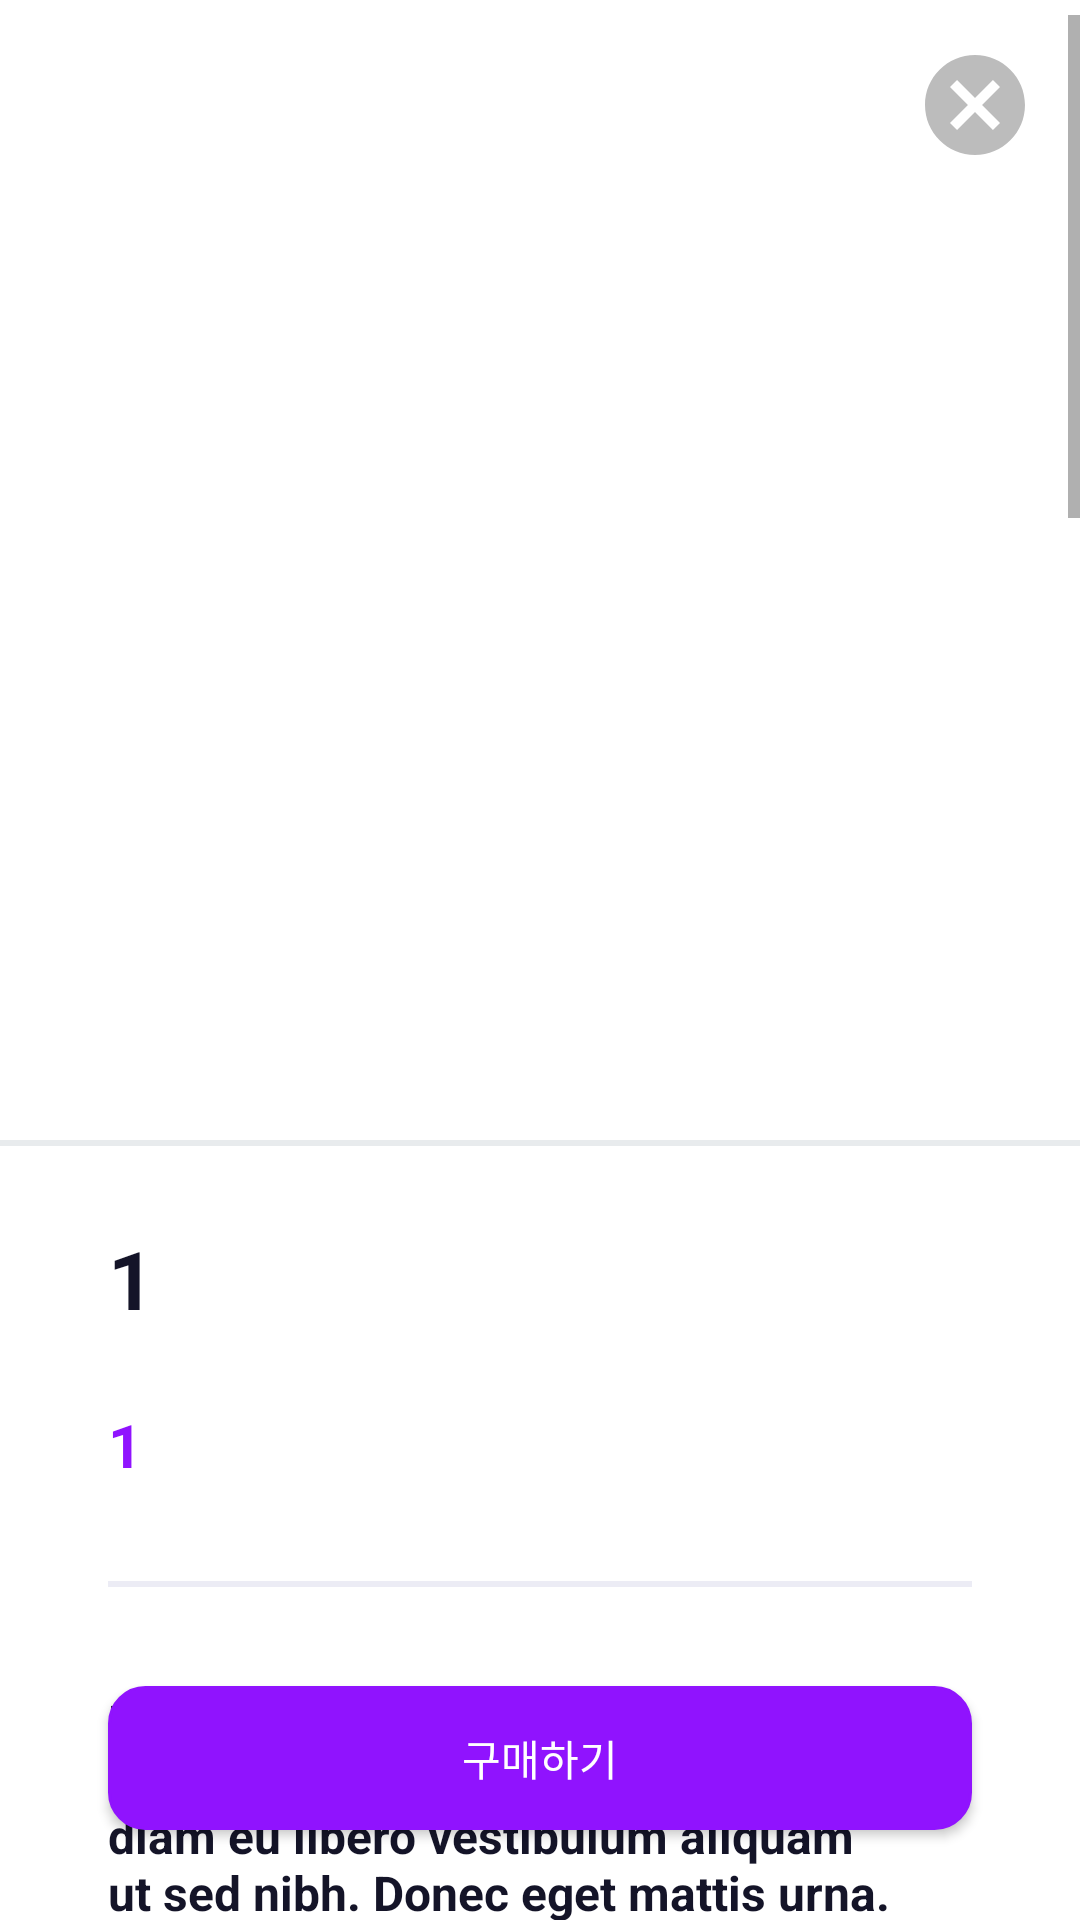

Named icons in this screenshot (1080 × 1920) and their centers, point (x, y):
cancel: point (975, 105)
